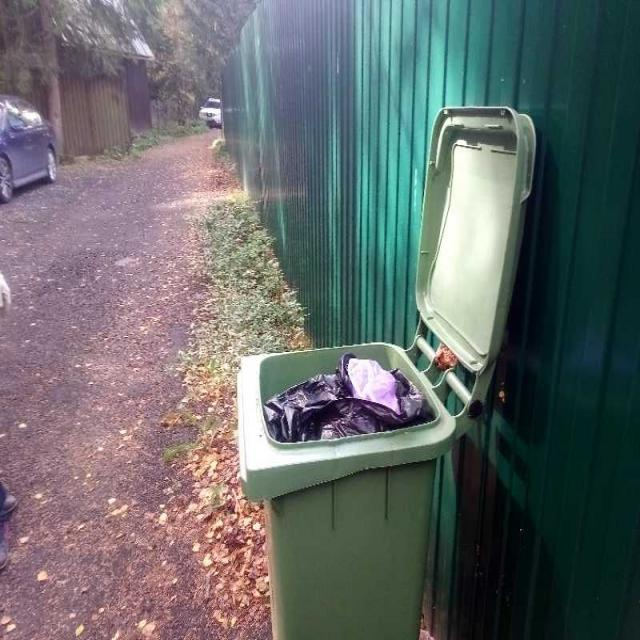Dumpster: (238, 106, 538, 640)
